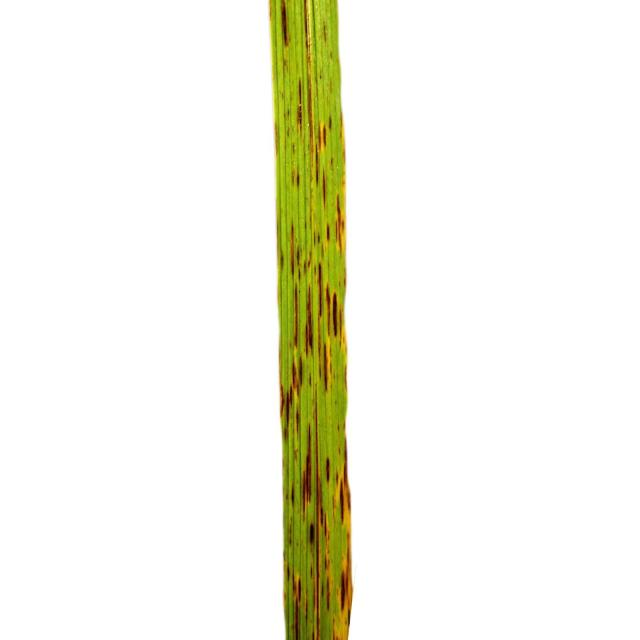Narrow brown: (232, 0, 442, 640)
